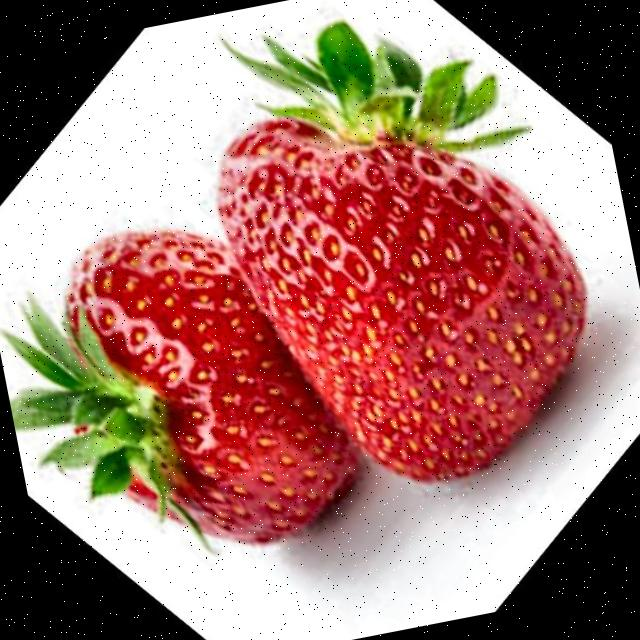strawberry: (218, 21, 587, 482), (5, 230, 358, 541)
